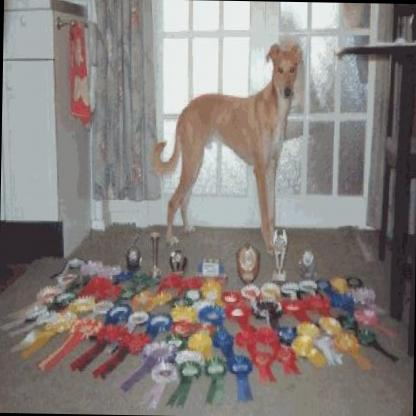basenji: (147, 38, 303, 257)
